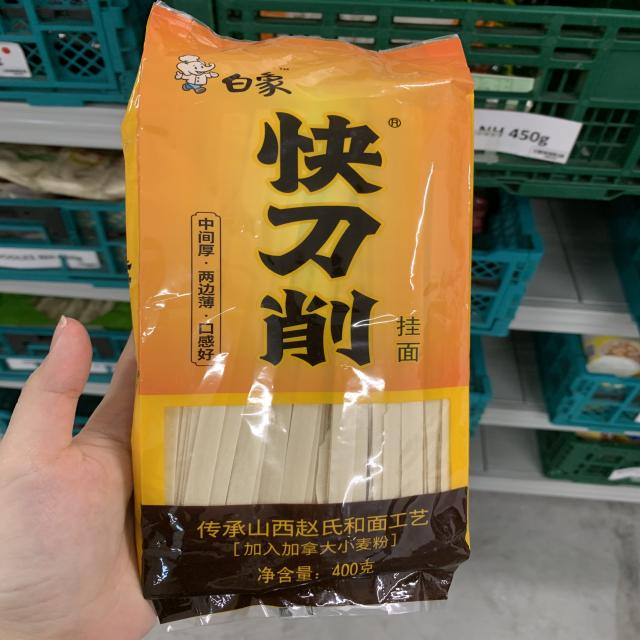object_name: (157, 41, 453, 592)
